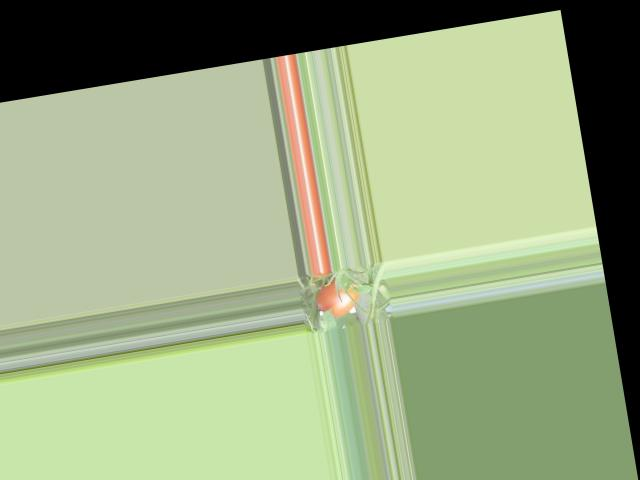tomato: (313, 276, 361, 320)
